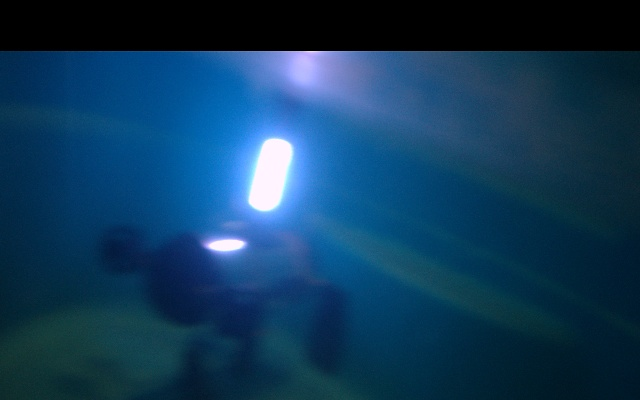white: (246, 138, 294, 215)
